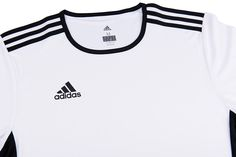adidas Originale: (53, 75, 86, 107)
